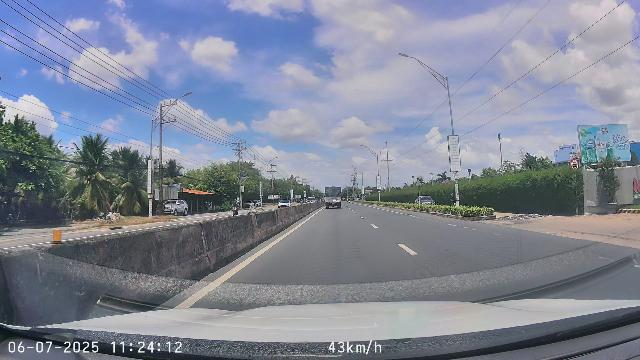103a-cam-oto: (570, 158, 579, 169)
